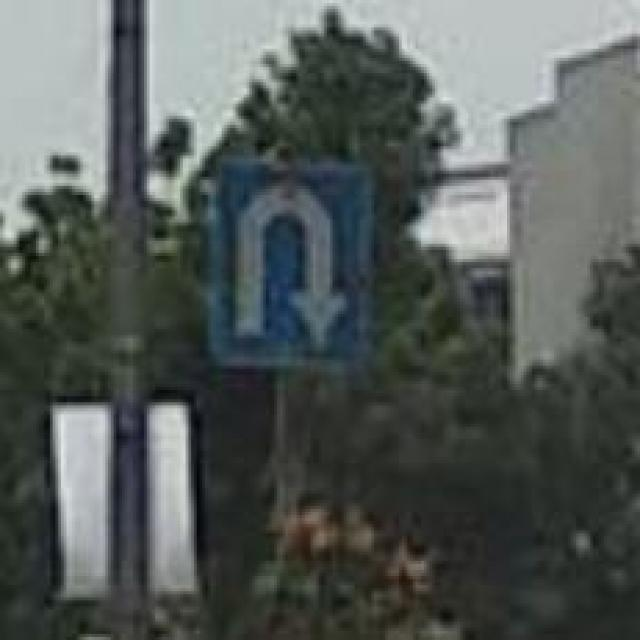traffic sign: (216, 158, 376, 374)
